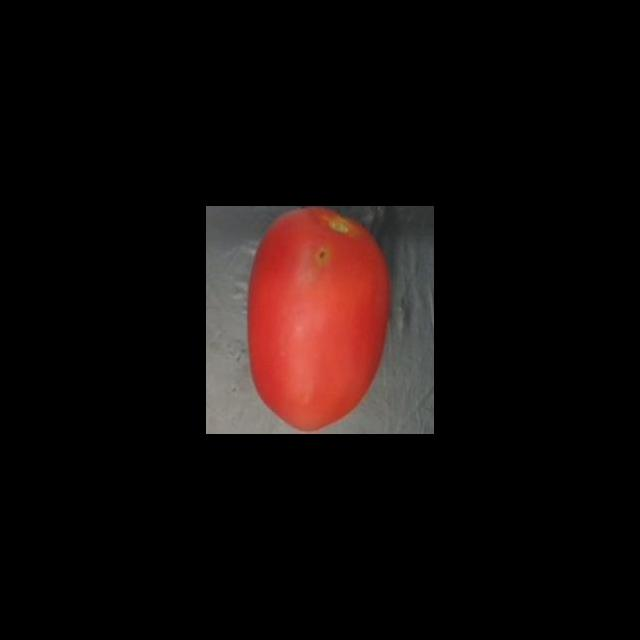tomato: (242, 206, 397, 434)
